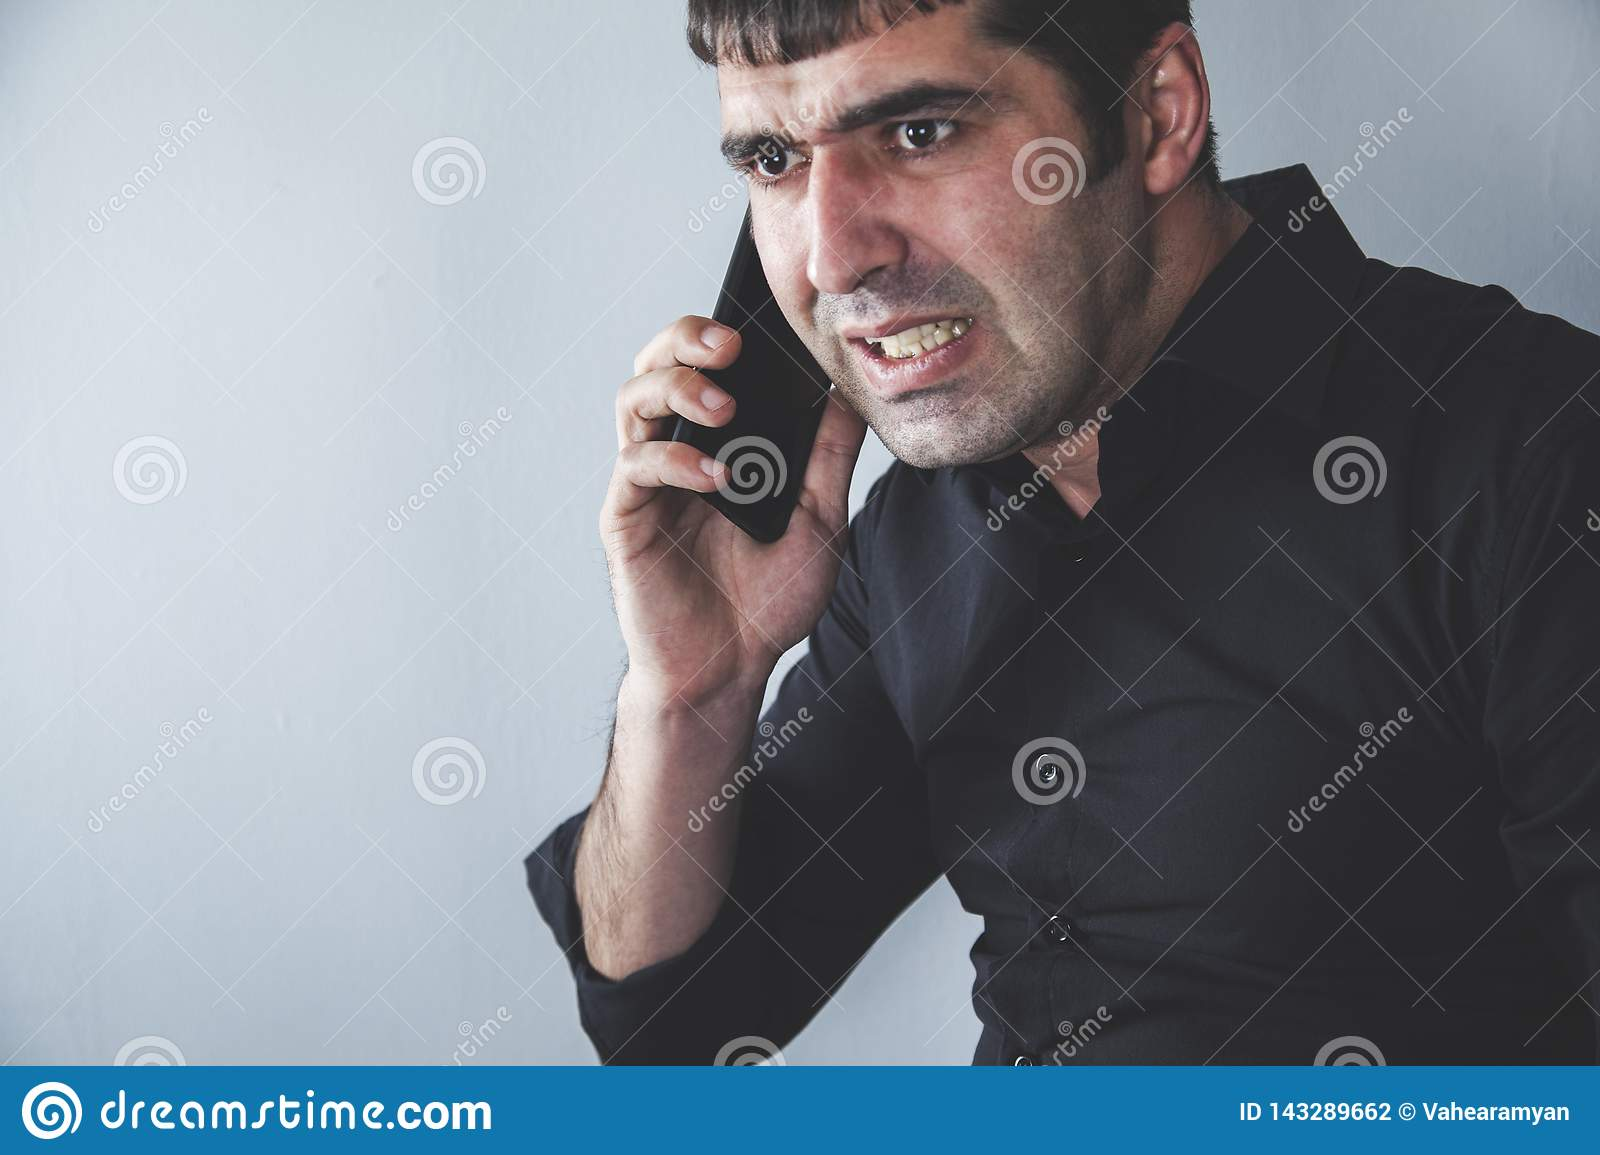phone: (668, 205, 829, 554)
talk: (595, 60, 1024, 710)
